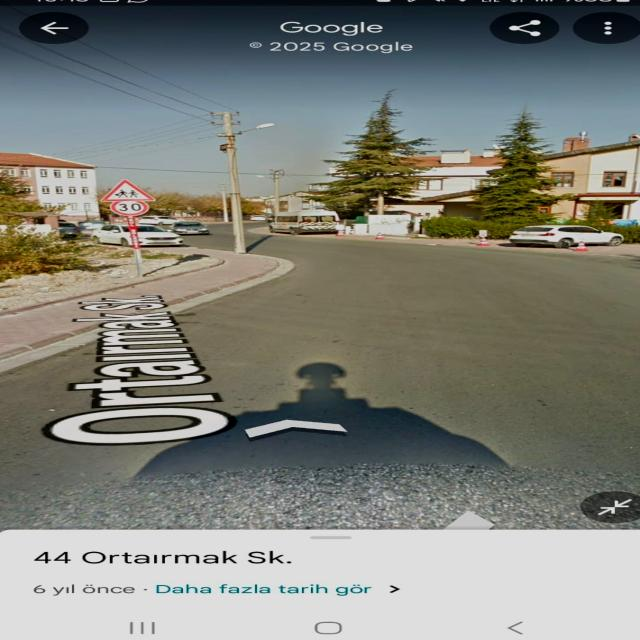okul_gecidi: (100, 179, 157, 202)
